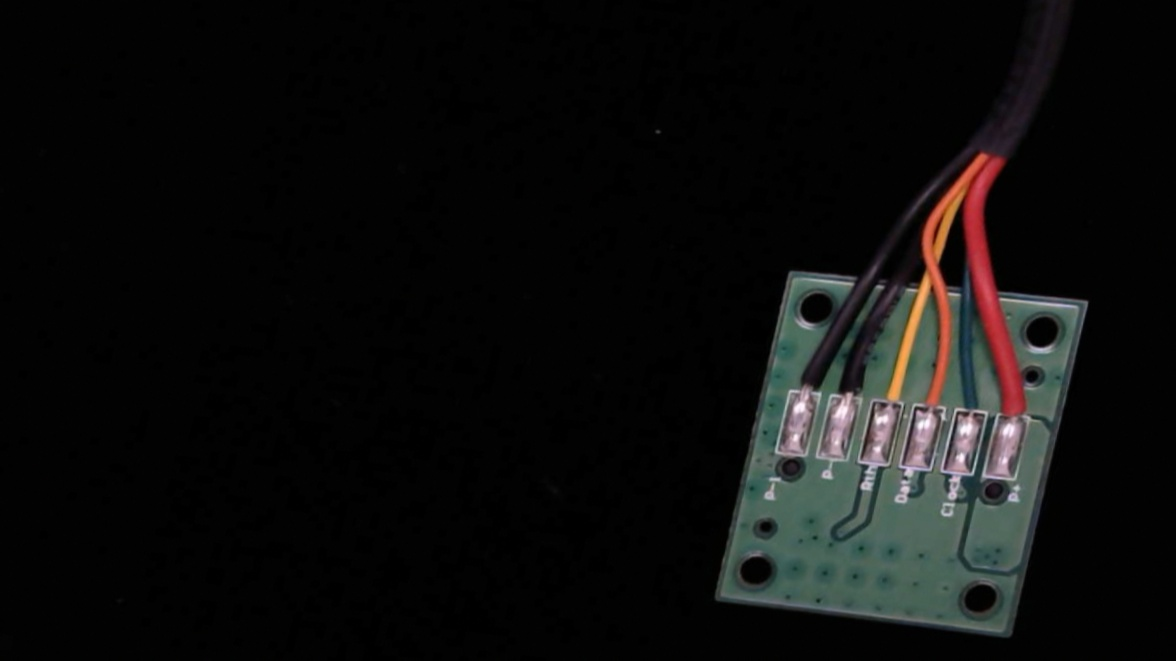Black: (823, 340, 878, 418)
Black1: (780, 343, 832, 415)
Green: (946, 372, 998, 437)
Orange: (906, 355, 959, 431)
Red: (987, 364, 1041, 439)
Yellow: (861, 345, 917, 424)
